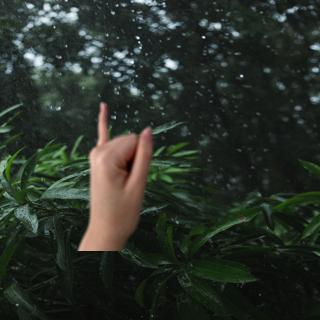Fine: (73, 96, 164, 251)
